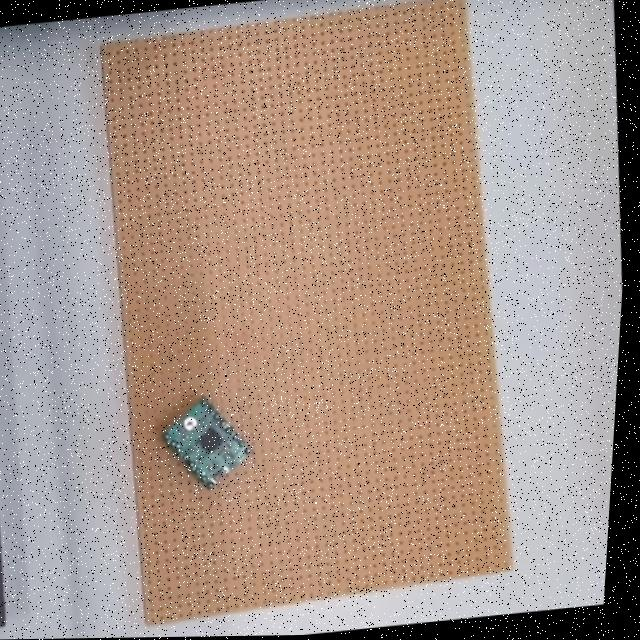Chip: (153, 385, 260, 501)
